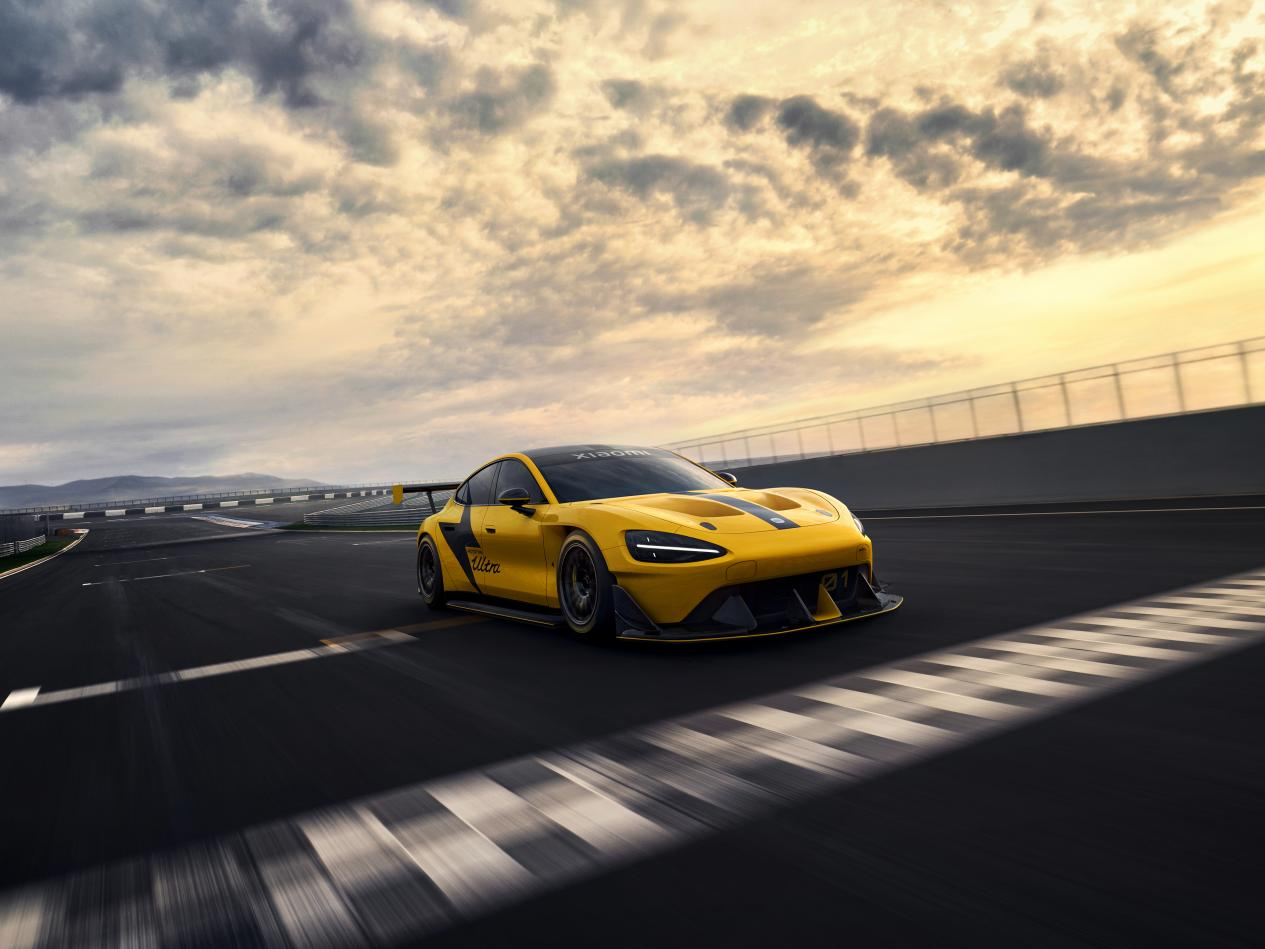su7: (388, 445, 899, 647)
